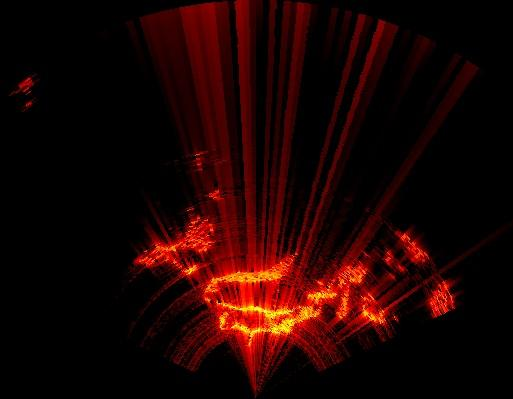shipwreck: (220, 264, 367, 345), (204, 256, 292, 302), (136, 220, 212, 267), (397, 233, 430, 265), (428, 281, 454, 316), (362, 293, 384, 323)
